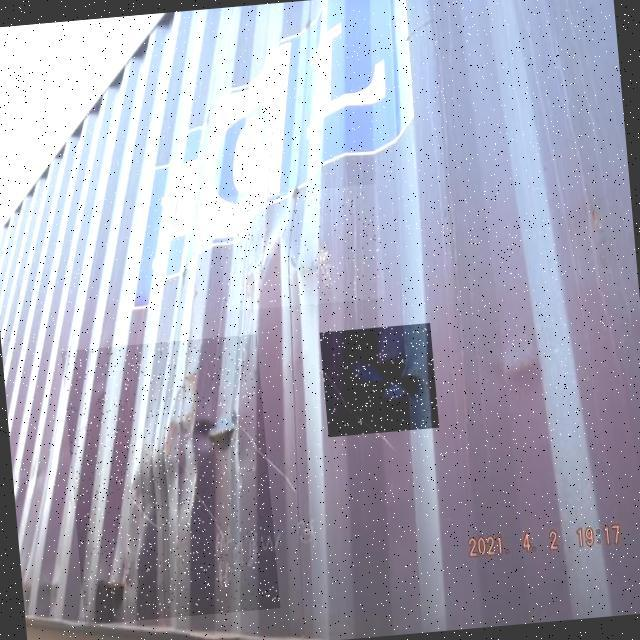Dent: (61, 334, 280, 625), (215, 184, 385, 312)
Minor-Dent: (319, 323, 439, 437)
